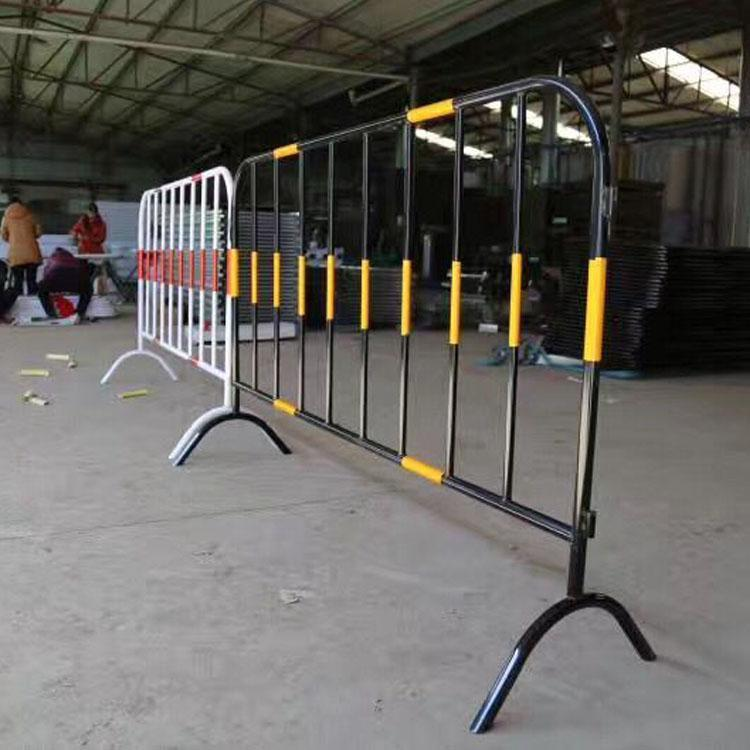sign: (122, 78, 659, 597)
